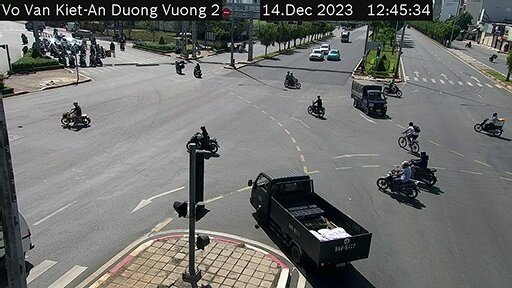car: (306, 45, 323, 63), (327, 48, 337, 65), (316, 42, 328, 56)
motorbike: (406, 149, 442, 187), (388, 162, 417, 199), (60, 100, 94, 130), (477, 109, 505, 136), (302, 91, 324, 119), (278, 68, 300, 93), (384, 79, 403, 99), (190, 62, 204, 85), (172, 55, 183, 77)
truck: (248, 164, 376, 264), (348, 74, 392, 121), (338, 30, 358, 46)
